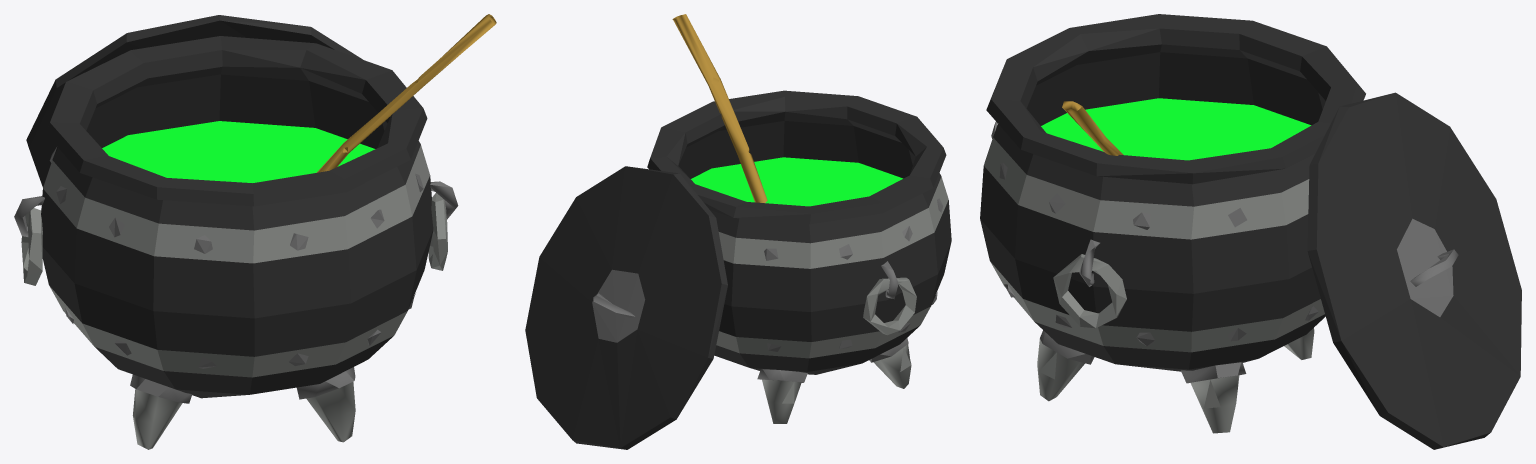
File: WitchPotFull.glb
3 views of the same model, side by side, from view 1: azimuth 30°, elevation 25°; view 2: azimuth 150°, elevation 25°; view 3: azimuth 270°, elevation 25° (orthographic). The views are drawn at different scales.
Parts seen in each view (by area): view 1: WitchPotFull; view 2: WitchPotFull; view 3: WitchPotFull.
Part boxes in pixels (x1,y1,x2,y2): WitchPotFull: [14, 14, 496, 449]; WitchPotFull: [525, 14, 951, 449]; WitchPotFull: [980, 14, 1521, 449].
Size of what is drawn, in the model's own units: 1.35 by 1.14 by 1.5.
2 materials, 2 textured.
